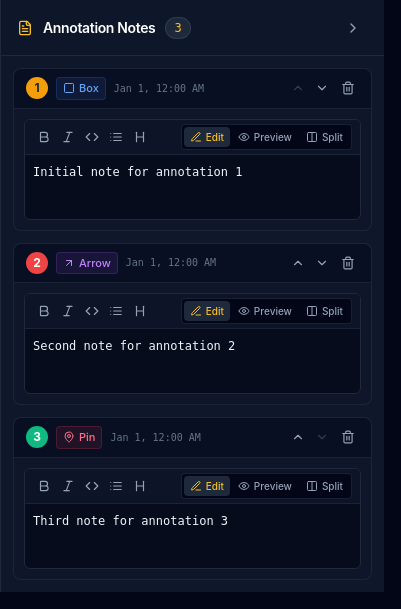
NotesSidebar Component Test Suite › Suite 4: Reordering & Boundary Disabling › T4.5: Clicking Move Down on first card moves it down and dynamically reindexes 1..N
This screenshot has width=401, height=609.
Click the button with test id "note-card-move-down-1" at (322, 88), box x1=311 y1=77 x2=333 y2=99
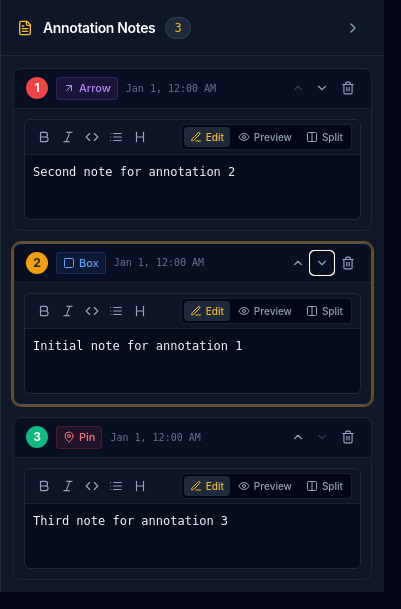
Expected: the text with test id "card-badge-ann_3" reads "3", x1=33 y1=429 x2=41 y2=444
Now the text with test id "card-badge-ann_2" reads "1", box x1=34 y1=80 x2=40 y2=95
Now the text with test id "card-badge-ann_1" reads "2", box x1=33 y1=255 x2=41 y2=270
